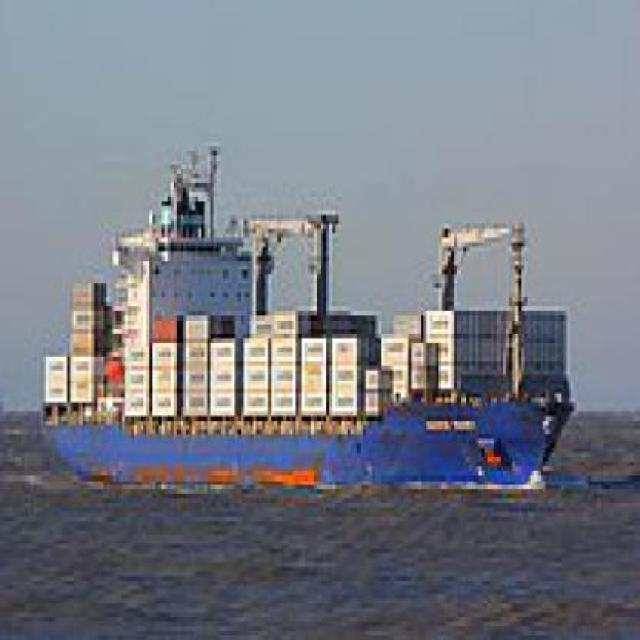container: (31, 120, 586, 509)
